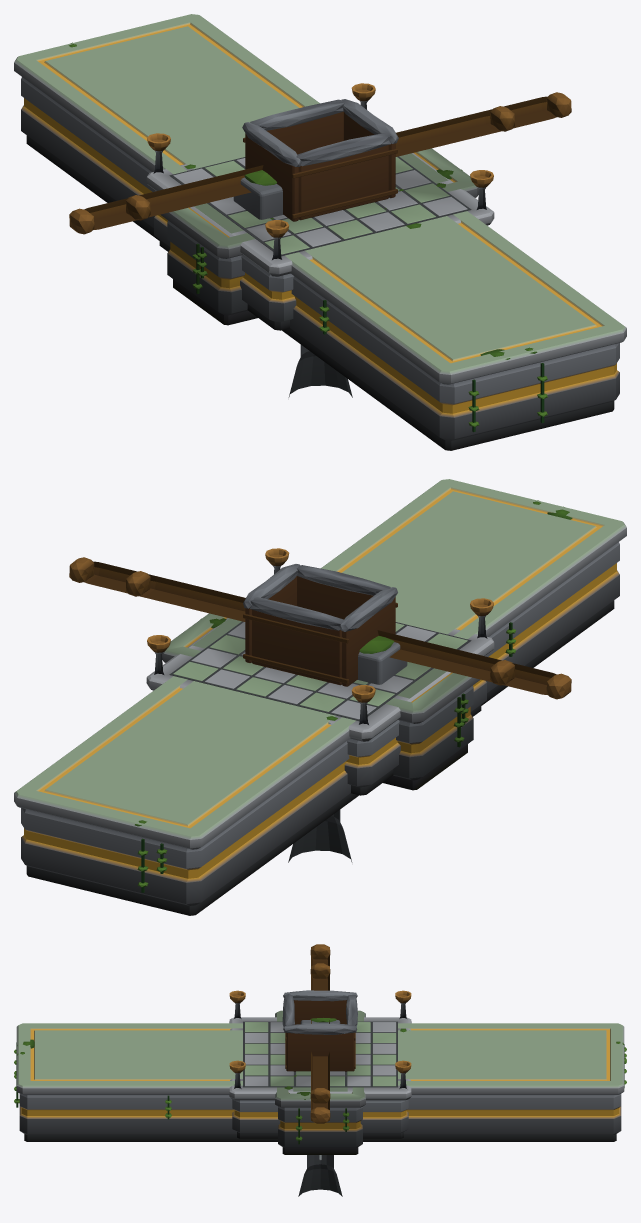
File: temple-1-CknrqLhz.glb
The picture shows the model from 3 angles, top to bottom: view 1: azimuth 30°, elevation 25°; view 2: azimuth 150°, elevation 25°; view 3: azimuth 270°, elevation 25°; orthographic projection. The views are drawn at different scales.
Visible parts, largest first — view 1: block_10x2x40#0, pad_12x2x12#0, hopper_4x3#0, block_14x2x6#0, mount_12.7#0, boltPost_#0, mount_9.7#0, support_0_round#0; view 2: block_10x2x40#0, pad_12x2x12#0, hopper_4x3#0, block_14x2x6#0, mount_12.7#0, boltPost_#0, mount_9.7#0, support_0_round#0; view 3: block_10x2x40#0, pad_12x2x12#0, hopper_4x3#0, block_14x2x6#0, mount_12.7#0, support_0_round#0, mount_9.7#0.
Part boxes in pixels (x1,y1,x2,y2): block_10x2x40#0: (14,14,626,450); pad_12x2x12#0: (146,83,494,330); hopper_4x3#0: (242,99,398,221); block_14x2x6#0: (160,148,478,325); mount_12.7#0: (69,92,571,234); boltPost_#0: (233,170,283,219); mount_9.7#0: (126,106,514,220); support_0_round#0: (288,344,352,397); block_10x2x40#0: (14,479,626,915); pad_12x2x12#0: (146,548,494,795); hopper_4x3#0: (243,564,397,686); block_14x2x6#0: (162,613,480,790); mount_12.7#0: (69,557,571,699); boltPost_#0: (357,636,407,684); mount_9.7#0: (126,571,514,685); support_0_round#0: (288,809,352,862); block_10x2x40#0: (14,1023,626,1141); pad_12x2x12#0: (229,990,411,1138); hopper_4x3#0: (282,990,357,1071); block_14x2x6#0: (275,1010,365,1154); mount_12.7#0: (310,944,330,1123); support_0_round#0: (298,1155,342,1196); mount_9.7#0: (310,963,330,1103).
Bounding box in the file's own units: 26.3 × 13.87 × 40.34.
